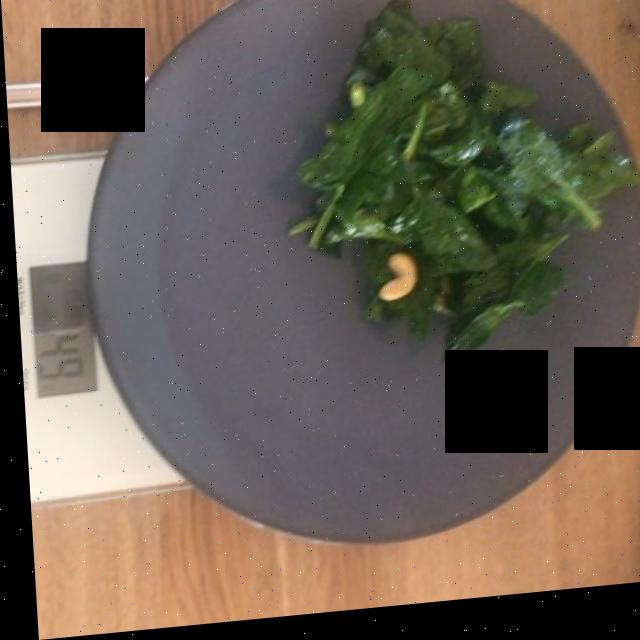leaf-spinach: (280, 21, 618, 365)
